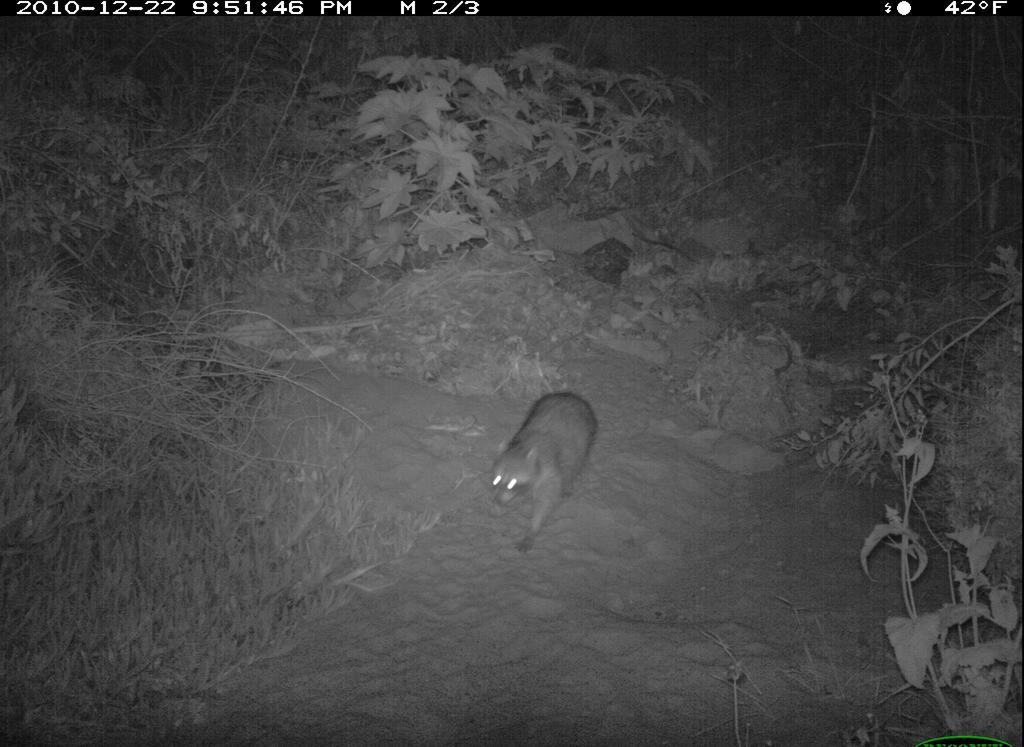raccoon: (459, 376, 620, 562)
